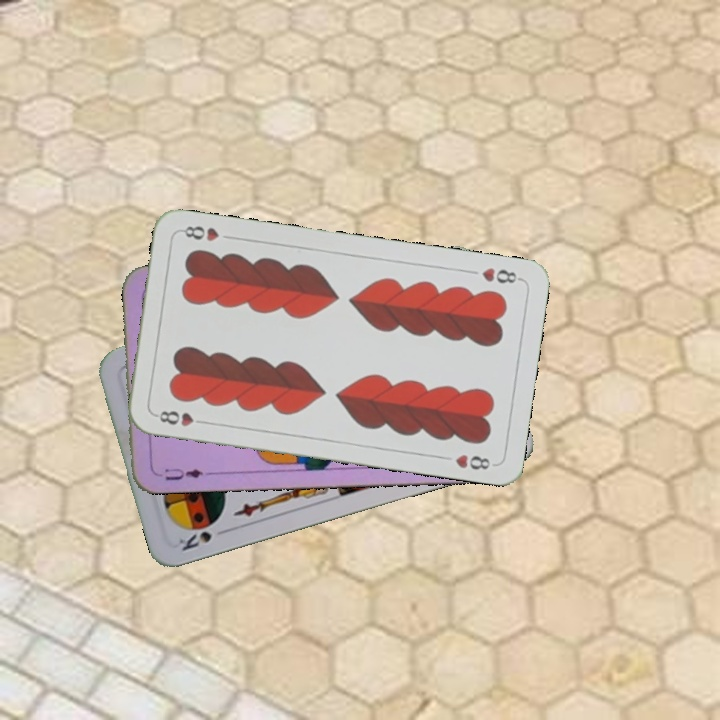EU: (161, 464, 206, 483)
H8: (151, 406, 210, 429), (478, 263, 524, 286)
SK: (174, 527, 215, 554)
